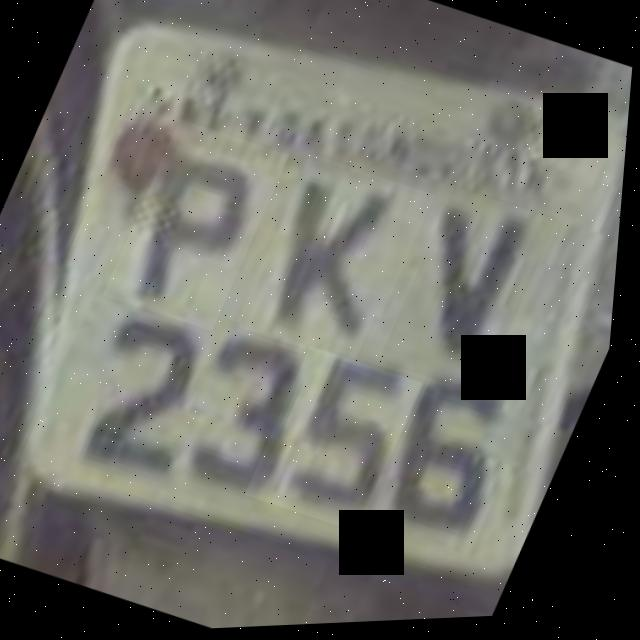2: (32, 274, 249, 498)
3: (128, 293, 354, 524)
5: (250, 345, 432, 540)
6: (343, 355, 541, 581)
K: (238, 152, 441, 375)
P: (105, 117, 295, 338)
V: (382, 185, 565, 403)
